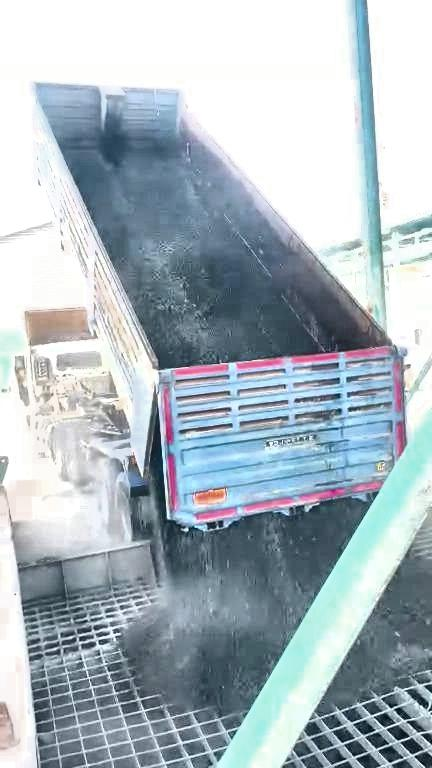gravel: (65, 149, 319, 367), (127, 502, 366, 712), (327, 553, 432, 705)
